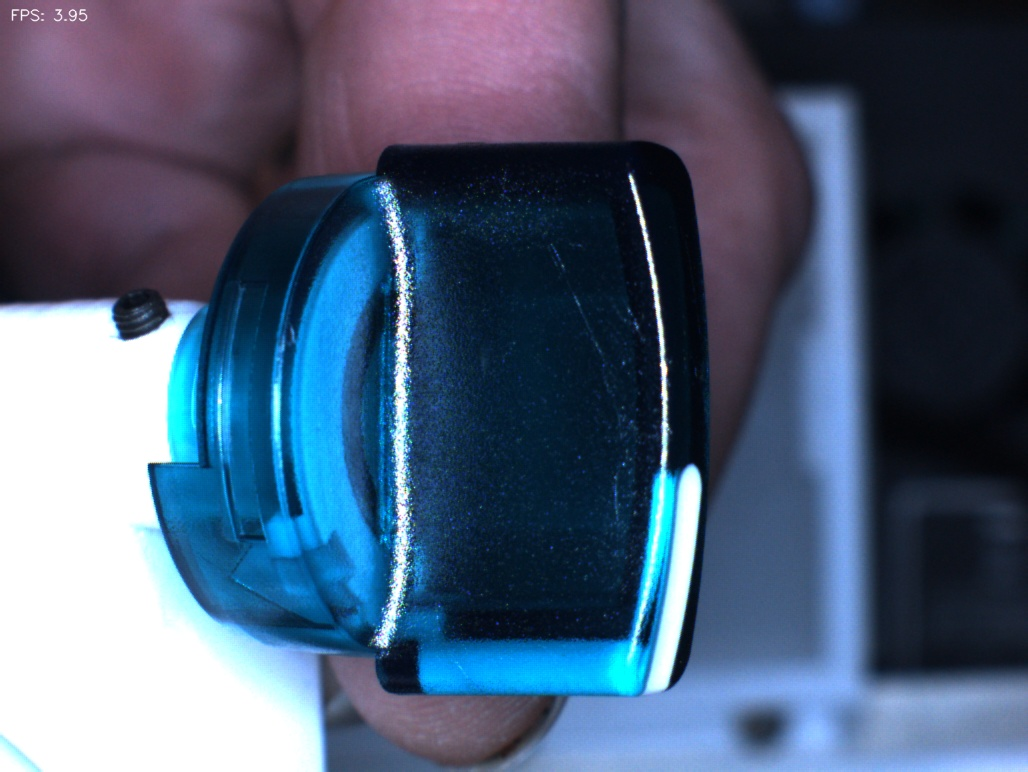Givrage: (539, 233, 664, 520)
